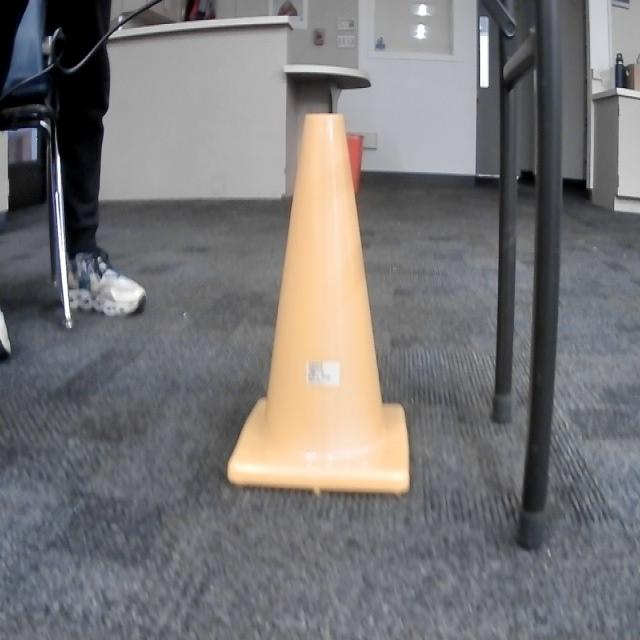cone: (227, 110, 409, 498)
